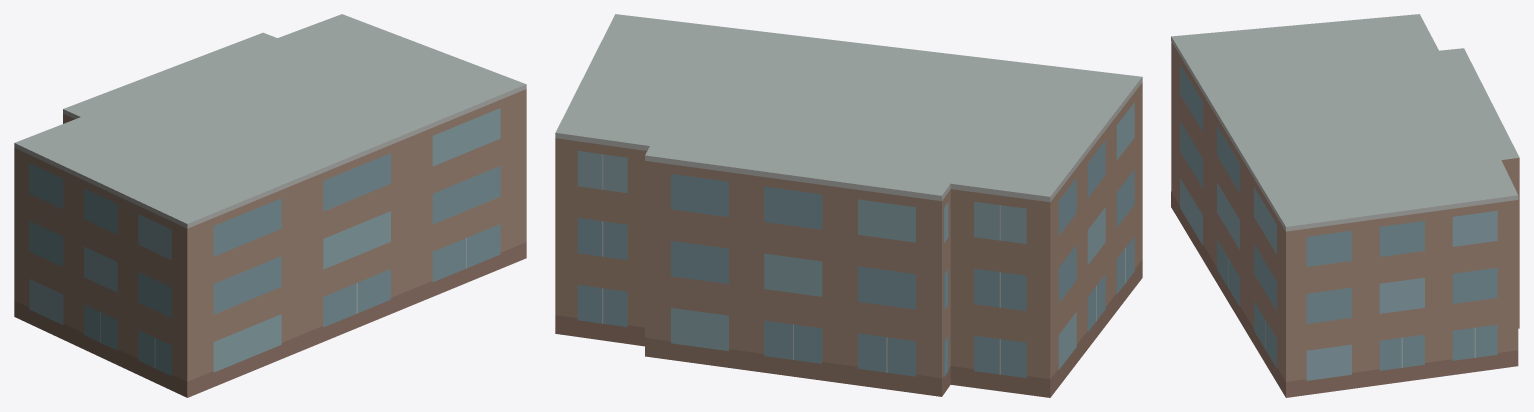
The model's file is survey-upis-32981767.glb.
3 renders of one model, left to right at view 1: azimuth 30°, elevation 25°; view 2: azimuth 150°, elevation 25°; view 3: azimuth 270°, elevation 25°, orthographic. The views are drawn at different scales.
Visible parts, largest first — view 1: survey-upis-32981767.tmp; view 2: survey-upis-32981767.tmp; view 3: survey-upis-32981767.tmp.
Part boxes in pixels (x1,y1,x2,y2): survey-upis-32981767.tmp: (14, 14, 526, 397); survey-upis-32981767.tmp: (555, 14, 1142, 397); survey-upis-32981767.tmp: (1171, 14, 1519, 397).
Bounding box in the file's own units: 24.48 × 9.15 × 16.93.
